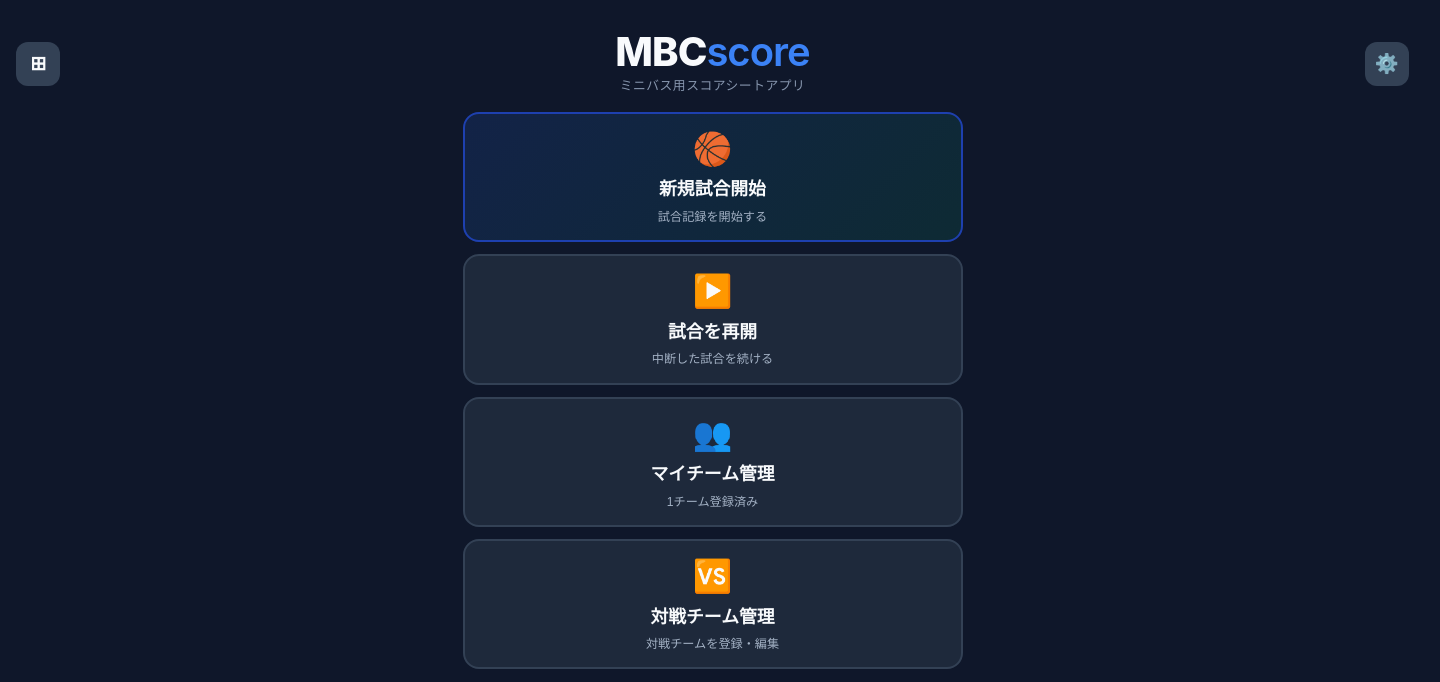
交代要員のテクニカル: 6個目以降の確認 › 1ファウルのベンチ選手を選ぶと確認なしでFT入力へ進む
This screenshot has width=1440, height=682.
Click the text "試合を再開" at (713, 330), box [668, 317, 757, 343]
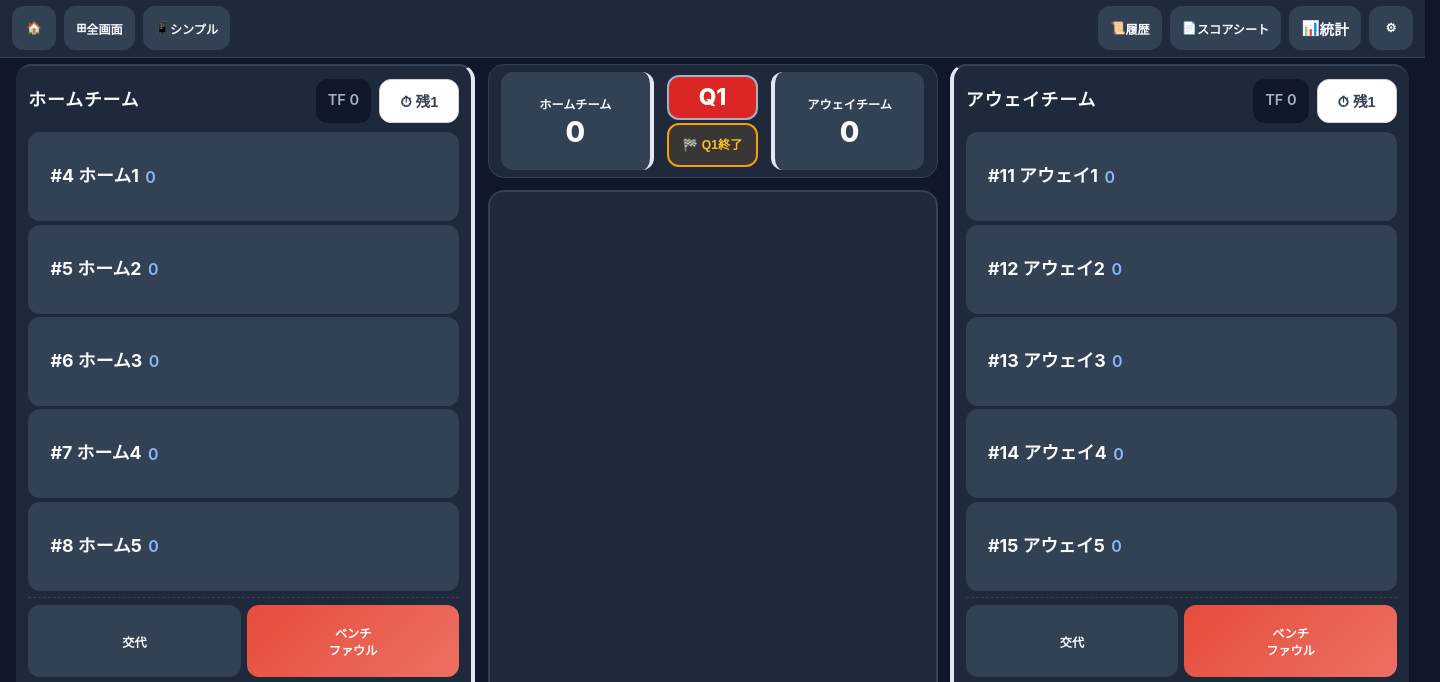
Click the 1st button "ベンチファウル" at (353, 641), box [247, 605, 459, 678]
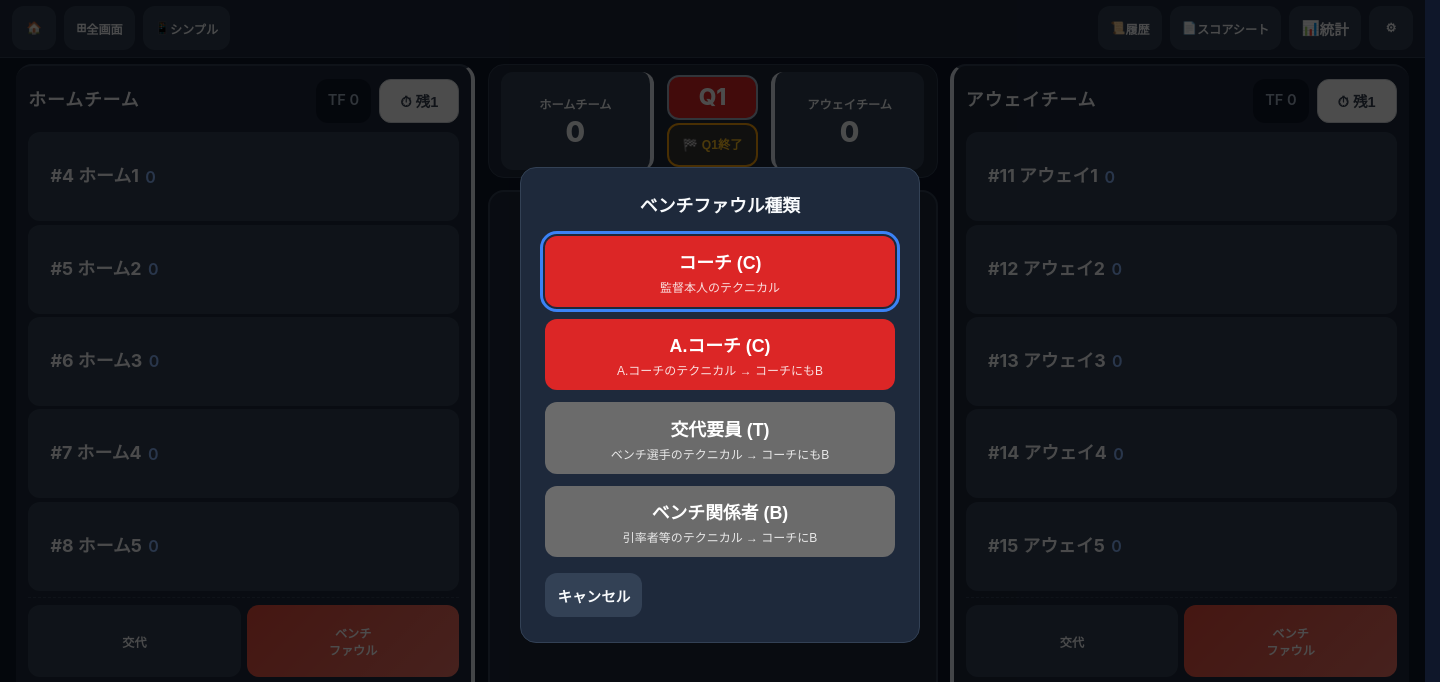
Click the button "交代要員 (T) ベンチ選手のテクニカル → コーチにもB" at (720, 438), box [545, 402, 895, 474]
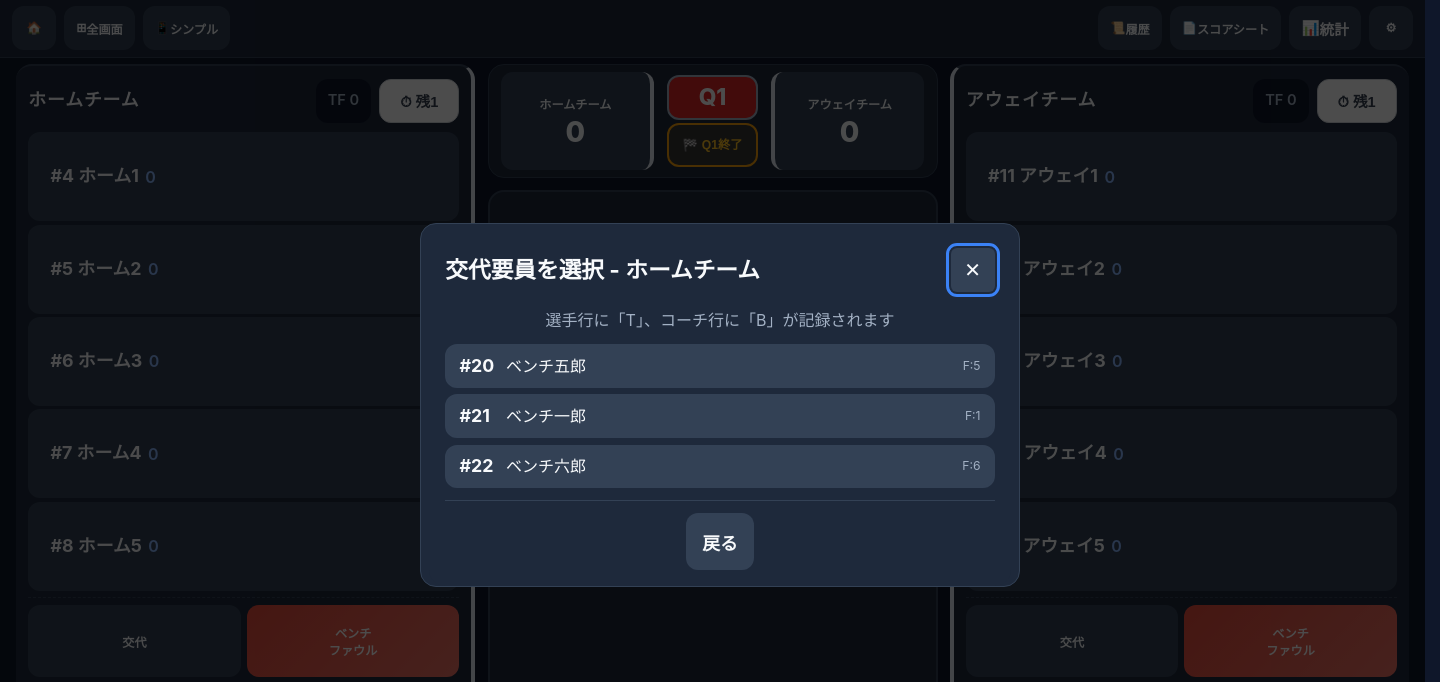
Click the button "#21 ベンチ一郎 F:1" at (546, 416), box [445, 394, 995, 438]
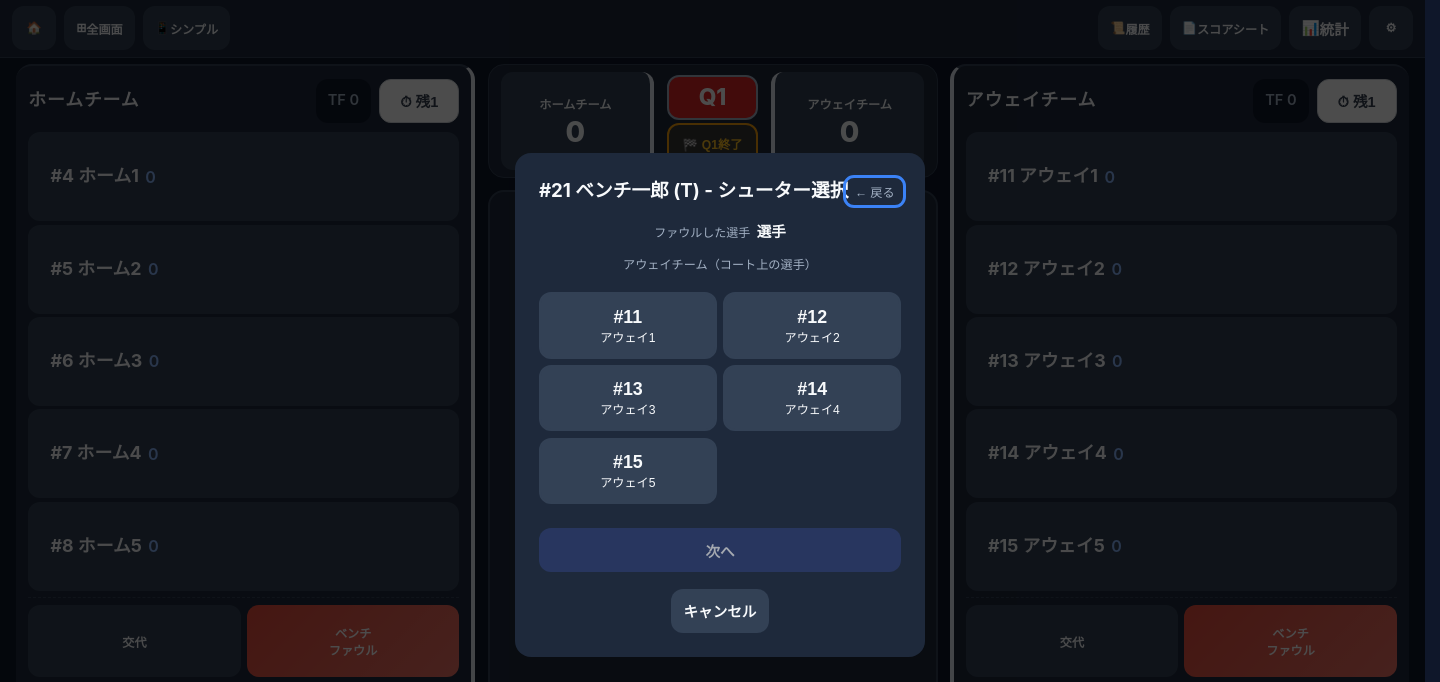
Result: the heading "#21 ベンチ一郎 (T) - シューター選択" is shown at [539, 177, 848, 205]
